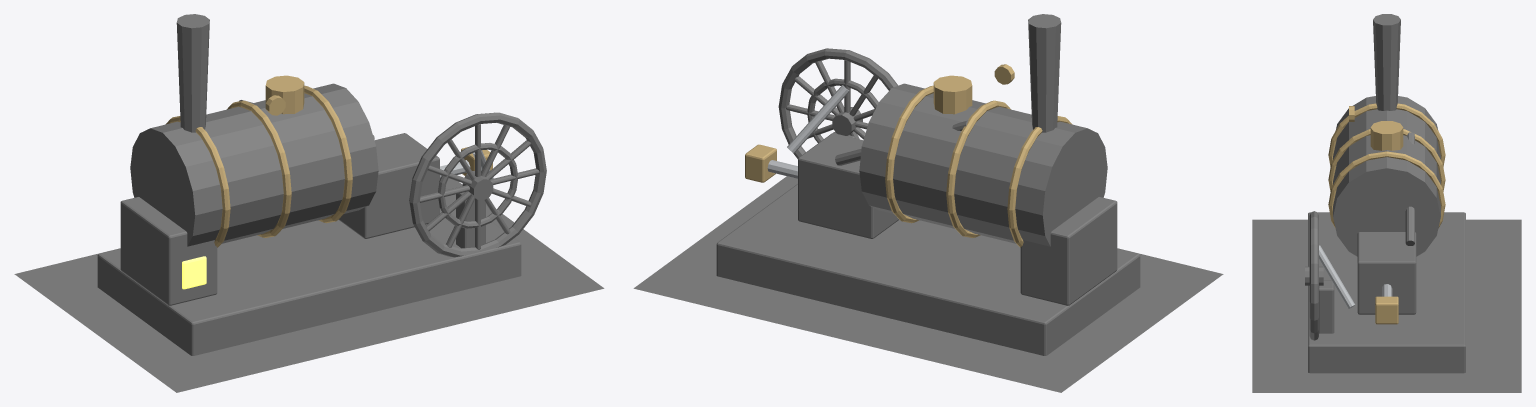
Rendered from steam-engine.glb.
The picture shows the model from 3 angles, left to right: view 1: azimuth 30°, elevation 25°; view 2: azimuth 150°, elevation 25°; view 3: azimuth 270°, elevation 25°; orthographic projection. The views are drawn at different scales.
Visible parts, largest first — view 1: base, boiler, ContactShadow, firebox, cylBlock, rim, smokestack, rimIn, boilerBand.002, boilerBand, boilerBand.001, dome (+9 smaller); view 2: base, boiler, ContactShadow, firebox, cylBlock, smokestack, rim, boilerBand.002, dome, boilerBand, boilerBand.001, crosshead (+3 smaller); view 3: ContactShadow, base, boiler, cylBlock, smokestack, rim, boilerBand, dome, boilerBand.001, boilerBand.002, flyPost, crosshead (+2 smaller).
Boxes of the visible parts, <box> form: base: <box>97,188,521,355</box>; boiler: <box>130,83,378,246</box>; ContactShadow: <box>14,178,604,392</box>; firebox: <box>120,197,217,305</box>; cylBlock: <box>338,133,439,238</box>; rim: <box>409,112,546,257</box>; smokestack: <box>176,14,209,132</box>; rimIn: <box>438,143,517,228</box>; boilerBand.002: <box>227,100,291,237</box>; boilerBand: <box>304,85,352,223</box>; boilerBand.001: <box>165,116,230,247</box>; dome: <box>265,75,304,114</box>; base: <box>716,184,1140,355</box>; boiler: <box>859,83,1107,246</box>; ContactShadow: <box>633,176,1223,392</box>; firebox: <box>1020,197,1117,305</box>; cylBlock: <box>798,133,899,238</box>; smokestack: <box>1028,14,1061,132</box>; rim: <box>778,48,898,158</box>; boilerBand.002: <box>946,100,1010,237</box>; dome: <box>933,75,972,114</box>; boilerBand: <box>885,85,933,223</box>; boilerBand.001: <box>1007,116,1072,247</box>; crosshead: <box>745,144,776,182</box>; ContactShadow: <box>1252,219,1521,392</box>; base: <box>1308,212,1465,373</box>; boiler: <box>1333,96,1440,256</box>; cylBlock: <box>1357,232,1416,314</box>; smokestack: <box>1373,14,1400,110</box>; rim: <box>1309,211,1318,340</box>; boilerBand: <box>1328,151,1445,228</box>; dome: <box>1370,121,1403,150</box>; boilerBand.001: <box>1328,103,1445,166</box>; boilerBand.002: <box>1328,129,1445,191</box>; flyPost: <box>1319,280,1334,333</box>; crosshead: <box>1375,296,1398,324</box>.
Size of the model in its own units: 3.5 by 2.28 by 2.3.
9 materials, 5 textured.
